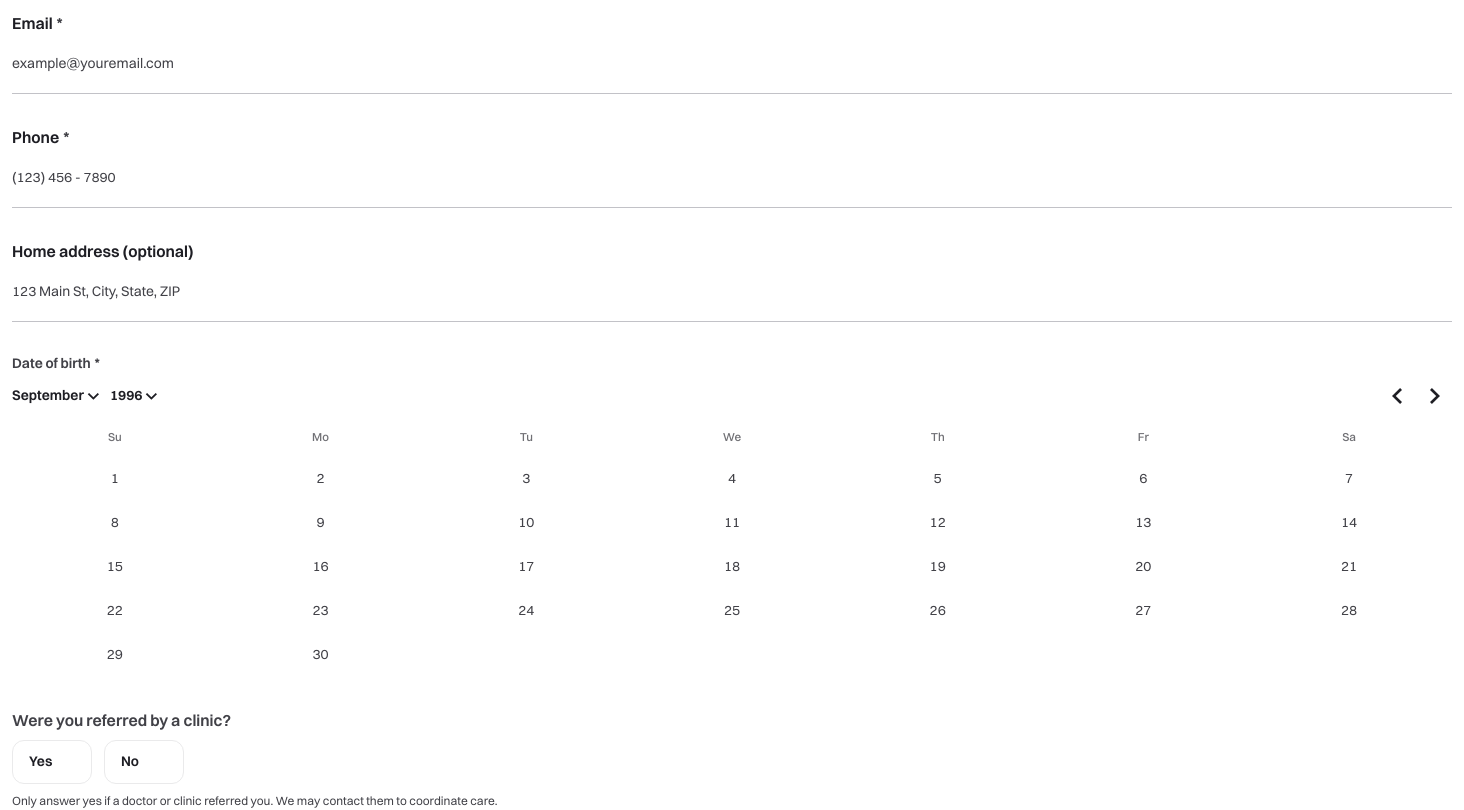
Step 1 referring-clinic gate › reveals all three clinic_* inputs after the user answers "Yes" to "Were you referred by a clinic?"
This screenshot has width=1464, height=810.
(page scrolled)
Click the radio button named "personal.has_referring_clinic".
click(52, 762)  # box [12,740,92,784]
(page scrolled)
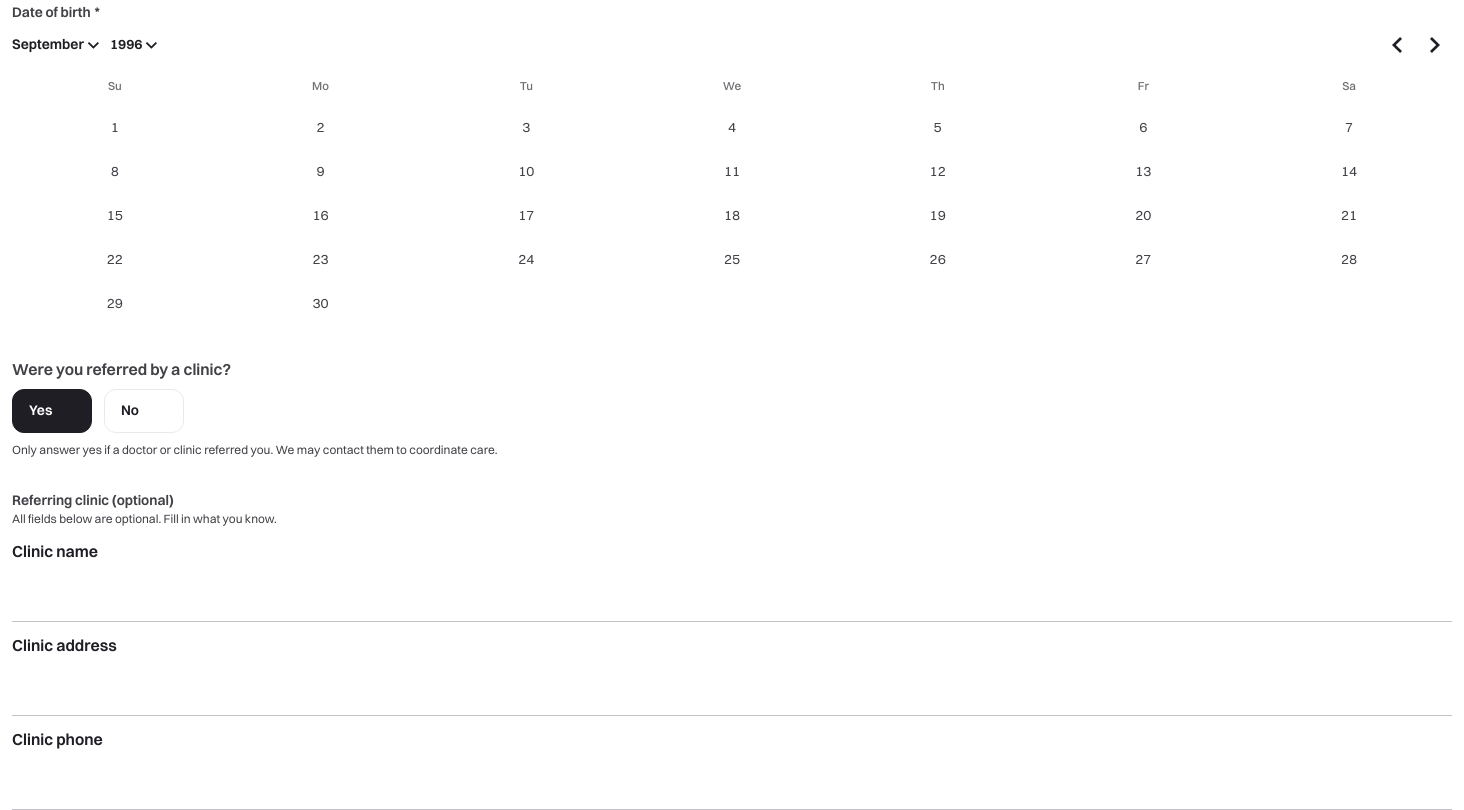
Now the field named "personal.clinic_name" is shown, box [12,570,1452,622]
Now the field named "personal.clinic_address" is shown, box [12,664,1452,716]
Now the field named "personal.clinic_phone" is shown, box [12,758,1452,809]
